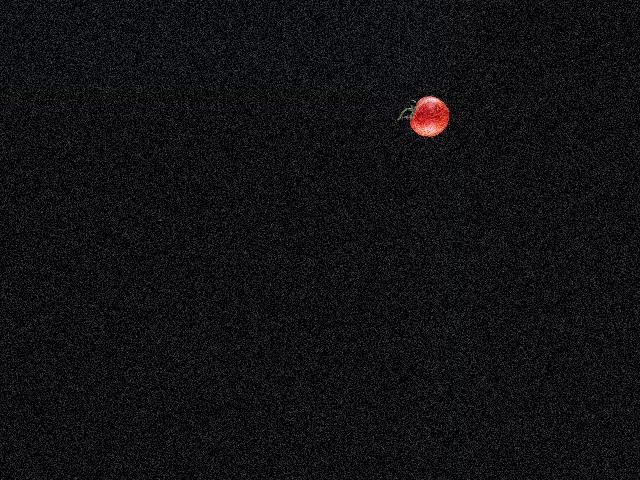tomato: (409, 96, 449, 137)
